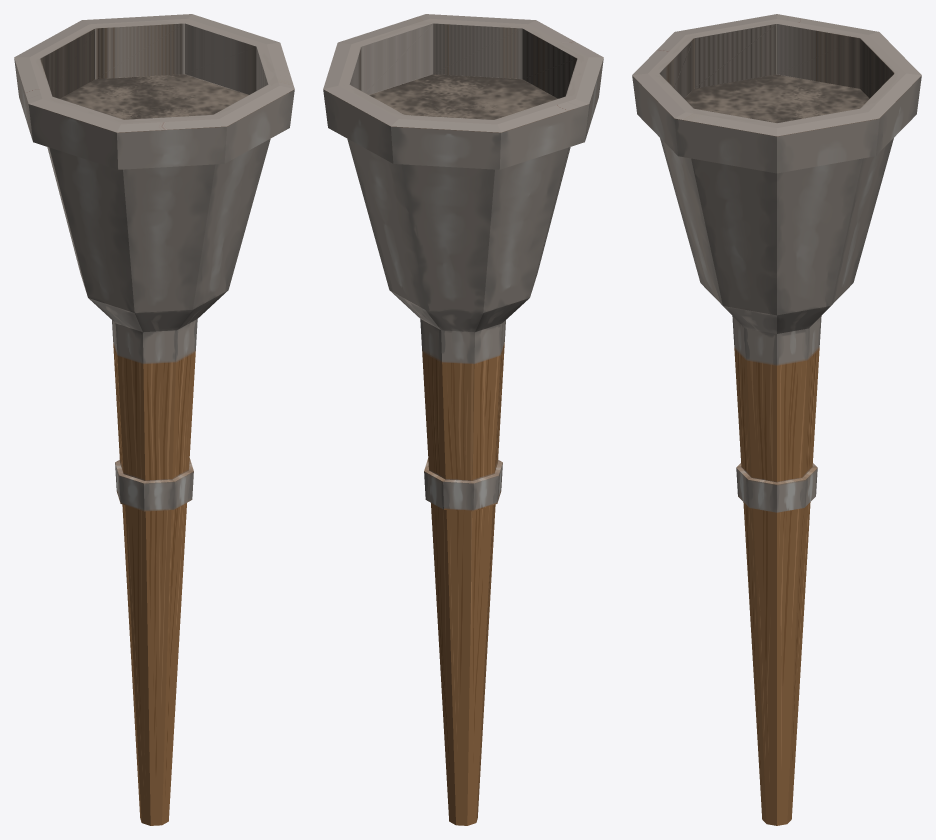
The model's file is Torch.fbx.
3 views of the same model, side by side, from view 1: azimuth 30°, elevation 25°; view 2: azimuth 150°, elevation 25°; view 3: azimuth 270°, elevation 25° (orthographic).
Parts seen in each view (by area): view 1: Cylinder; view 2: Cylinder; view 3: Cylinder.
Part boxes in pixels (x1,y1,x2,y2): Cylinder: [14, 14, 294, 825]; Cylinder: [323, 14, 603, 825]; Cylinder: [632, 14, 921, 825].
Bounding box in the file's own units: 492 × 1398 × 492.
